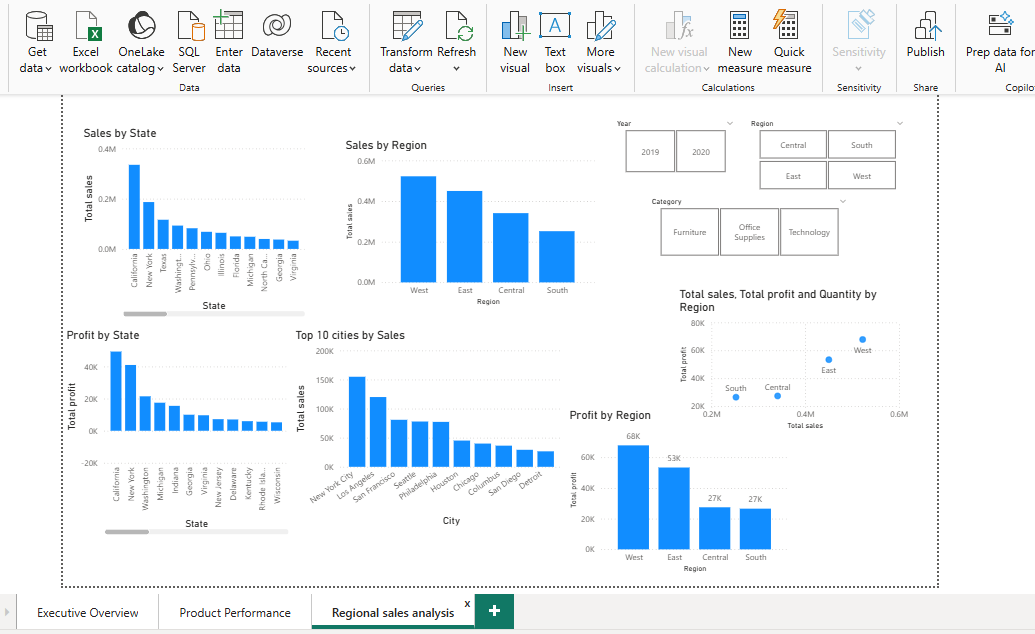

What the dashboard file says about the page in this screenshot:
{"tool":"powerbi","page":{"name":"Regional sales analysis","canvas":[1280,720],"ordinal":2},"visuals":[{"type":"clusteredColumnChart","title":"Sales by State","fields":{"Y":["Sheet1.Total sales"],"Category":["Sheet1.State"]},"box":[25.2,47,334.3,283.9],"z":0},{"type":"clusteredColumnChart","title":"Profit by State","fields":{"Y":["Sheet1.Total profit"],"Category":["Sheet1.State"]},"box":[0,342.4,335.1,307.3],"z":1000},{"type":"clusteredColumnChart","title":"Sales by Region","fields":{"Y":["Sheet1.Total sales"],"Category":["Sheet1.Region"]},"box":[408.2,63.8,374.6,250.3],"z":2000},{"type":"clusteredColumnChart","title":"Top 10 cities by Sales","fields":{"Y":["Sheet1.Total sales"],"Category":["Sheet1.City"]},"box":[335.1,342.4,401,294.1],"z":3000},{"type":"clusteredColumnChart","title":"Profit by Region","fields":{"Y":["Sheet1.Total profit"],"Category":["Sheet1.Region"]},"box":[736.1,459.5,330.7,245.9],"z":4000},{"type":"slicer","fields":{"Values":["Sheet1.Year"]},"box":[797.6,32.2,196.1,89.3],"z":5000},{"type":"slicer","fields":{"Values":["Sheet1.Region"]},"box":[993.7,32.2,273.7,139],"z":6000},{"type":"slicer","fields":{"Values":["Sheet1.Category"]},"box":[782.9,144.9,228.3,122.9],"z":7000},{"type":"scatterChart","fields":{"X":["Sheet1.Total sales"],"Y":["Sheet1.Total profit"],"Category":["Sheet1.Region"]},"box":[897.1,282.4,345.4,213.7],"z":8000}]}

Visuals, with their boxes on the page's 1280x720 design canvas (x1, y1, x2, y2). These are canvas units, not pixel positions in the 1035x634 screenshot, which may show the page scaled, cropped or inside an application window:
"Sales by State" clusteredColumnChart: <region>25, 47, 360, 331</region>
"Profit by State" clusteredColumnChart: <region>0, 342, 335, 650</region>
"Sales by Region" clusteredColumnChart: <region>408, 64, 783, 314</region>
"Top 10 cities by Sales" clusteredColumnChart: <region>335, 342, 736, 636</region>
"Profit by Region" clusteredColumnChart: <region>736, 460, 1067, 705</region>
slicer - Sheet1.Year: <region>798, 32, 994, 122</region>
slicer - Sheet1.Region: <region>994, 32, 1267, 171</region>
slicer - Sheet1.Category: <region>783, 145, 1011, 268</region>
scatterChart - Sheet1.Total sales x Sheet1.Total profit: <region>897, 282, 1242, 496</region>
